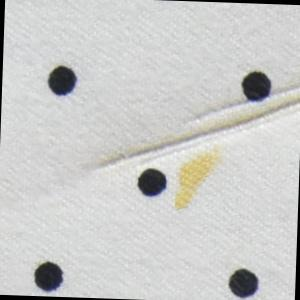Oil Stain: (88, 72, 300, 179)
Stain: (171, 143, 228, 216)
